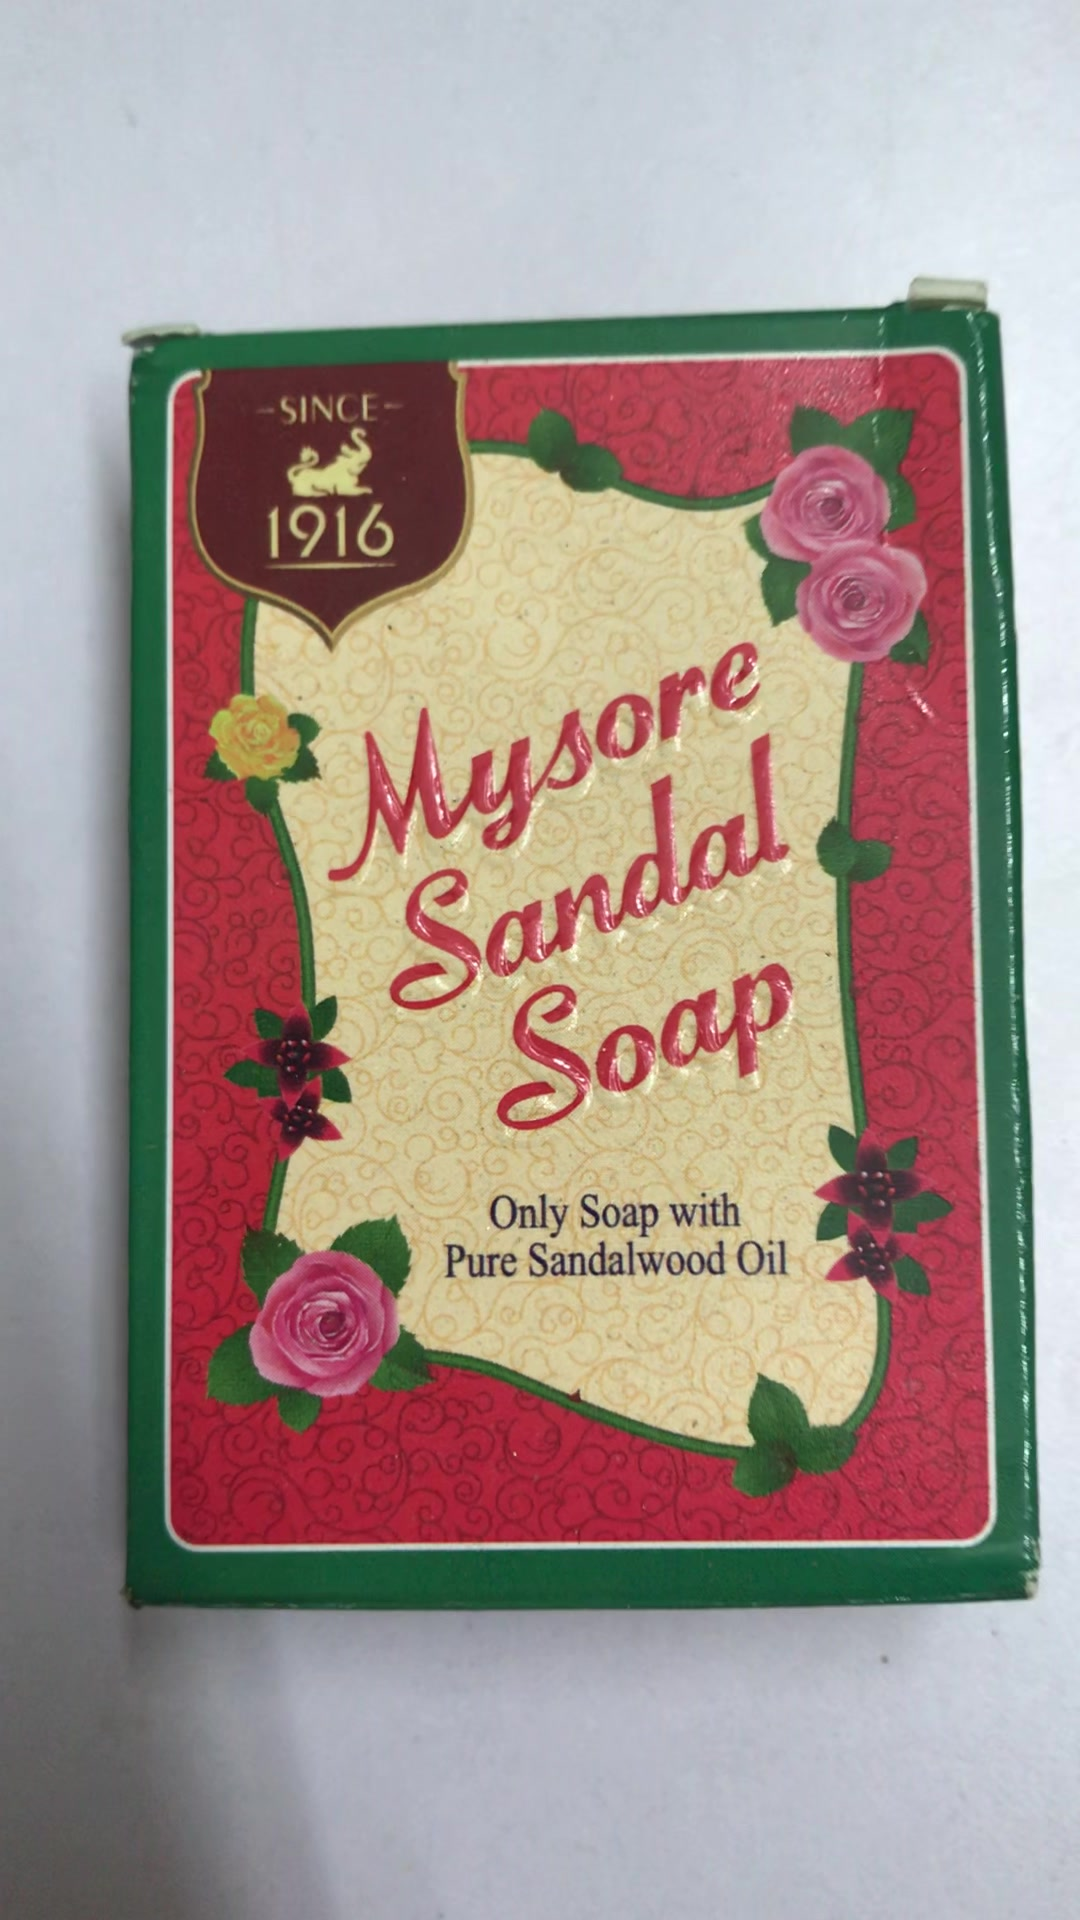mysore sandal soap: (135, 305, 1043, 1598)
